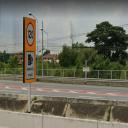speed_limit_120: (25, 19, 36, 48)
